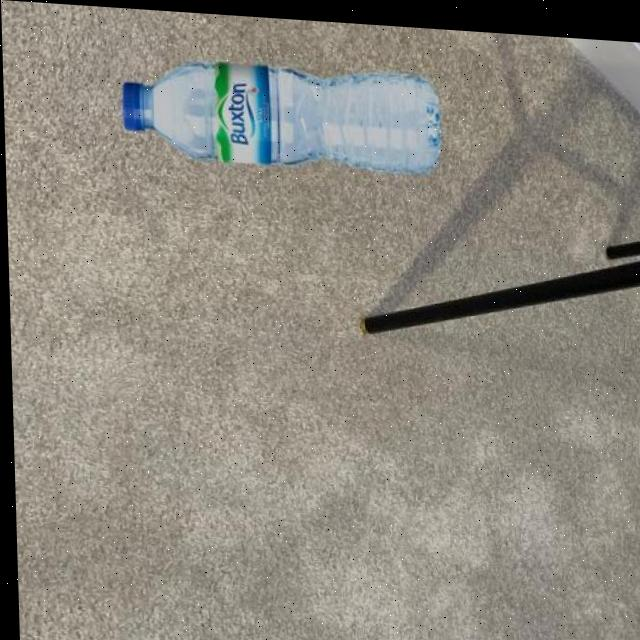bottle: (120, 50, 443, 173)
